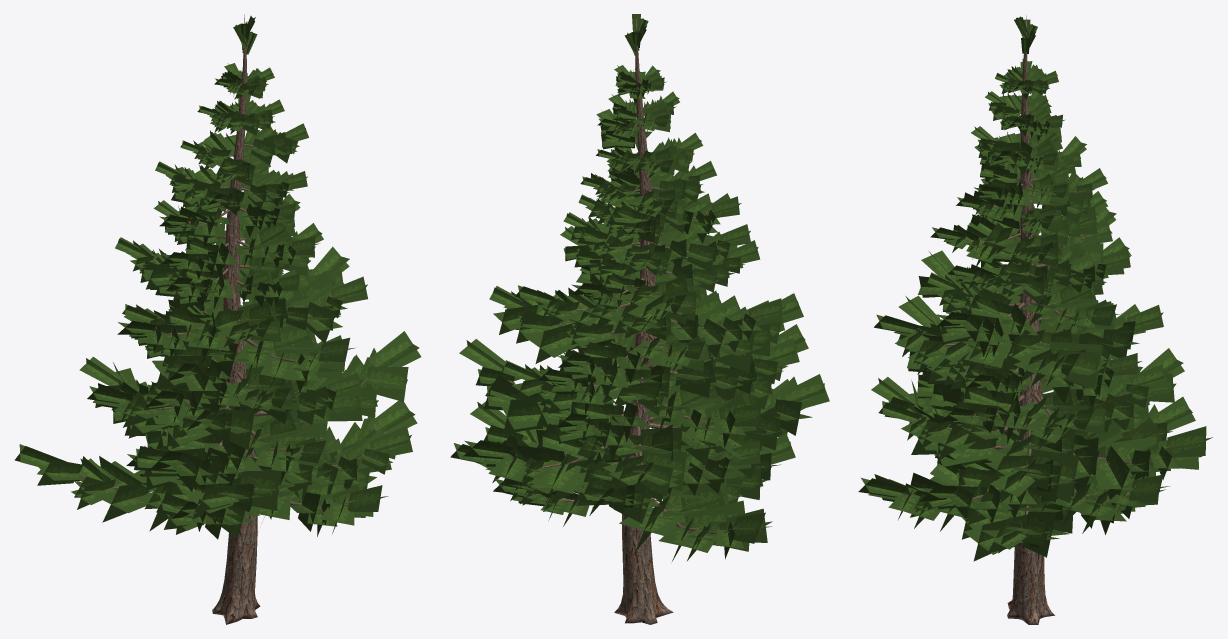
File: european-larch.glb
3 renders of one model, left to right at view 1: azimuth 30°, elevation 25°; view 2: azimuth 150°, elevation 25°; view 3: azimuth 270°, elevation 25°, orthographic.
Visible parts, largest first — view 1: European Larch; view 2: European Larch; view 3: European Larch.
Part boxes in pixels (x1=…): European Larch: x1=15, y1=14, x2=421, y2=624; European Larch: x1=450, y1=14, x2=829, y2=624; European Larch: x1=858, y1=15, x2=1212, y2=624.
Size of the model in its own units: 7.5 by 12.1 by 6.47.
3 materials, 3 textured.
